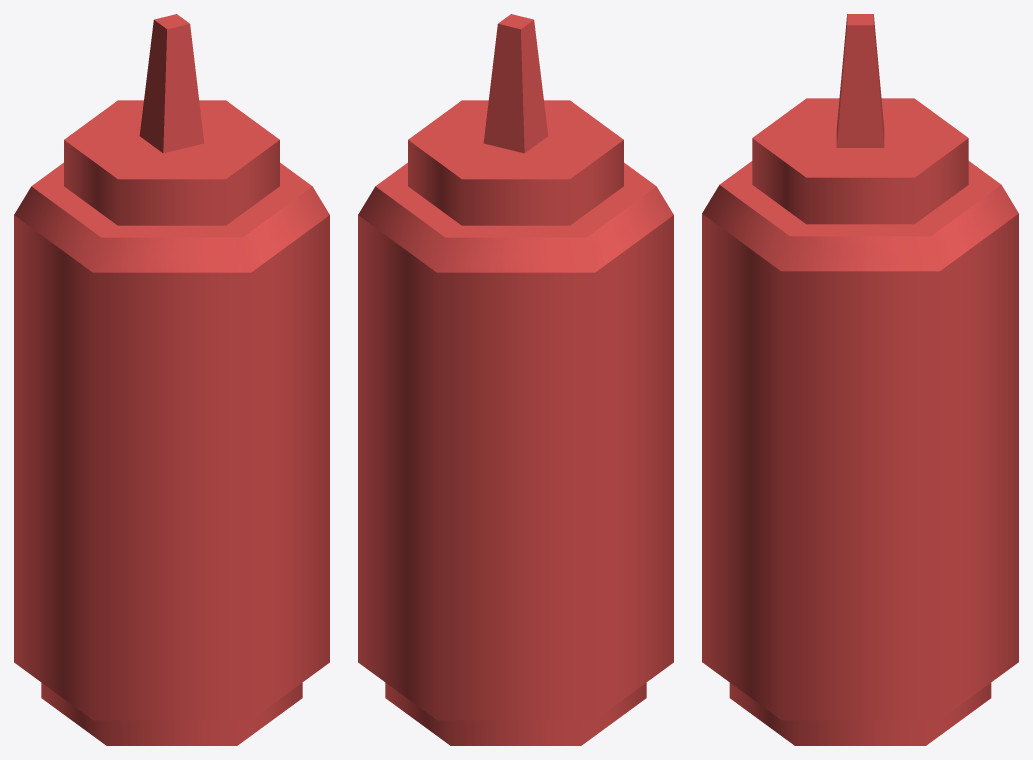
The model's file is ketchup.glb.
The picture shows the model from 3 angles, left to right: view 1: azimuth 30°, elevation 25°; view 2: azimuth 150°, elevation 25°; view 3: azimuth 270°, elevation 25°; orthographic projection.
Parts seen in each view (by area): view 1: bottleKetchup; view 2: bottleKetchup; view 3: bottleKetchup.
Boxes of the visible parts, left/top/right/bottom form: bottleKetchup: left=14, top=14, right=329, bottom=745; bottleKetchup: left=358, top=14, right=673, bottom=745; bottleKetchup: left=702, top=14, right=1018, bottom=745.
Bounding box in the file's own units: 0.1441 × 0.3931 × 0.1664.
